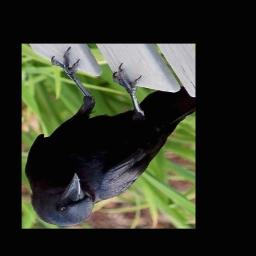Crow: (24, 46, 195, 225)
